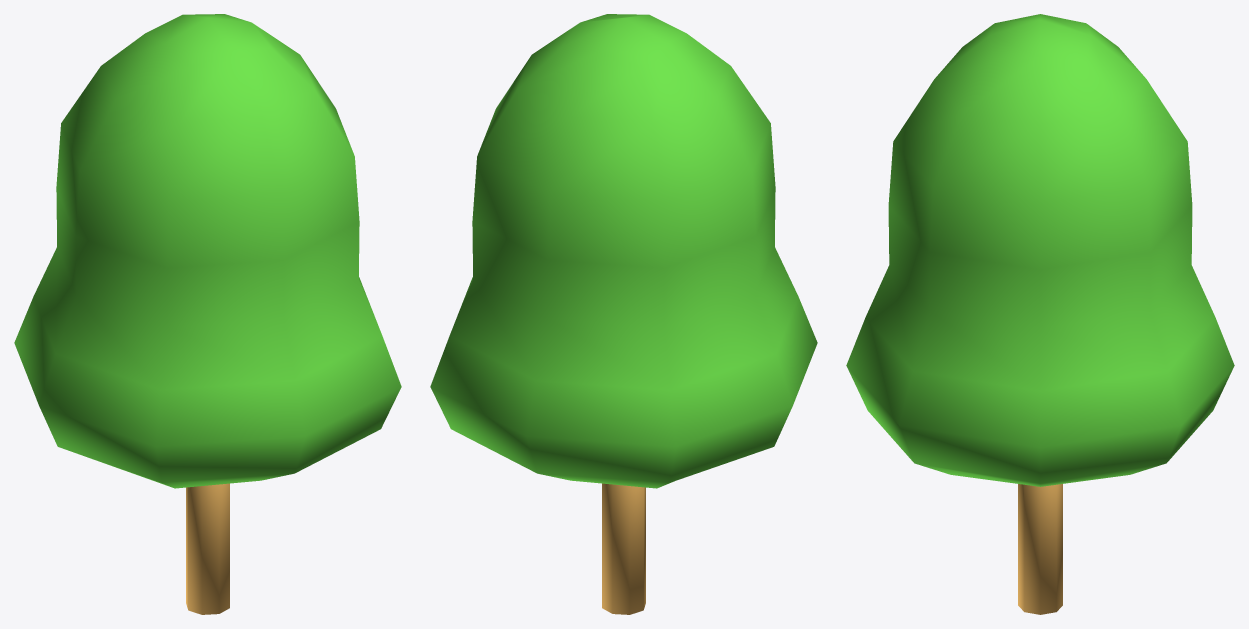
Rendered from Prop_Tree_03.fbx.
3 views of the same model, side by side, from view 1: azimuth 30°, elevation 25°; view 2: azimuth 150°, elevation 25°; view 3: azimuth 270°, elevation 25° (orthographic).
Parts seen in each view (by area): view 1: Prop_Tree_03; view 2: Prop_Tree_03; view 3: Prop_Tree_03.
Part boxes in pixels (x1,y1,x2,y2): Prop_Tree_03: [14, 14, 401, 614]; Prop_Tree_03: [430, 14, 817, 614]; Prop_Tree_03: [846, 14, 1234, 614].
Bounding box in the file's own units: 266 × 443 × 266.
